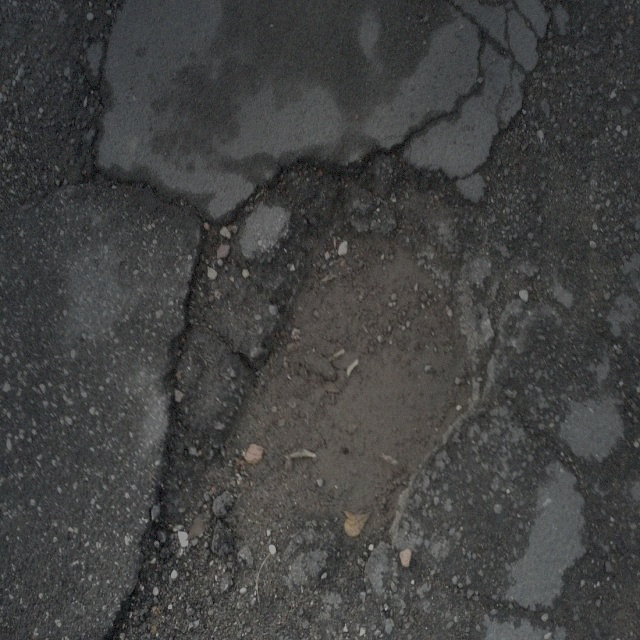pothole: (163, 149, 493, 555)
